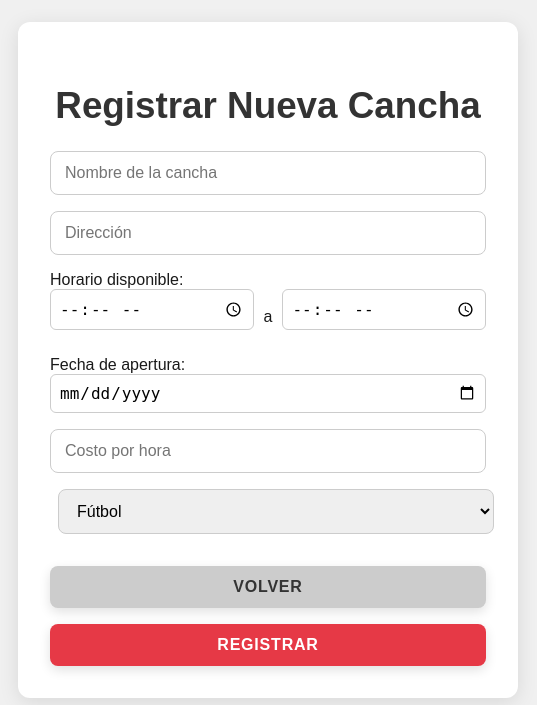
valida campos vacíos
Click the button "Registrar" at (268, 645), box [50, 624, 486, 666]
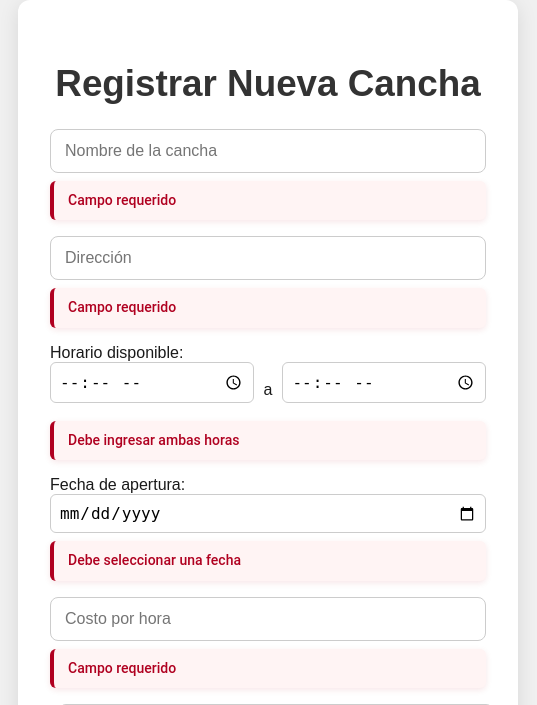
Check: the 1st text "Campo requerido" is shown, box [50, 180, 486, 220]
